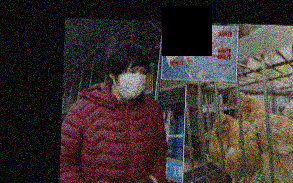with_mask: (115, 63, 149, 100)
